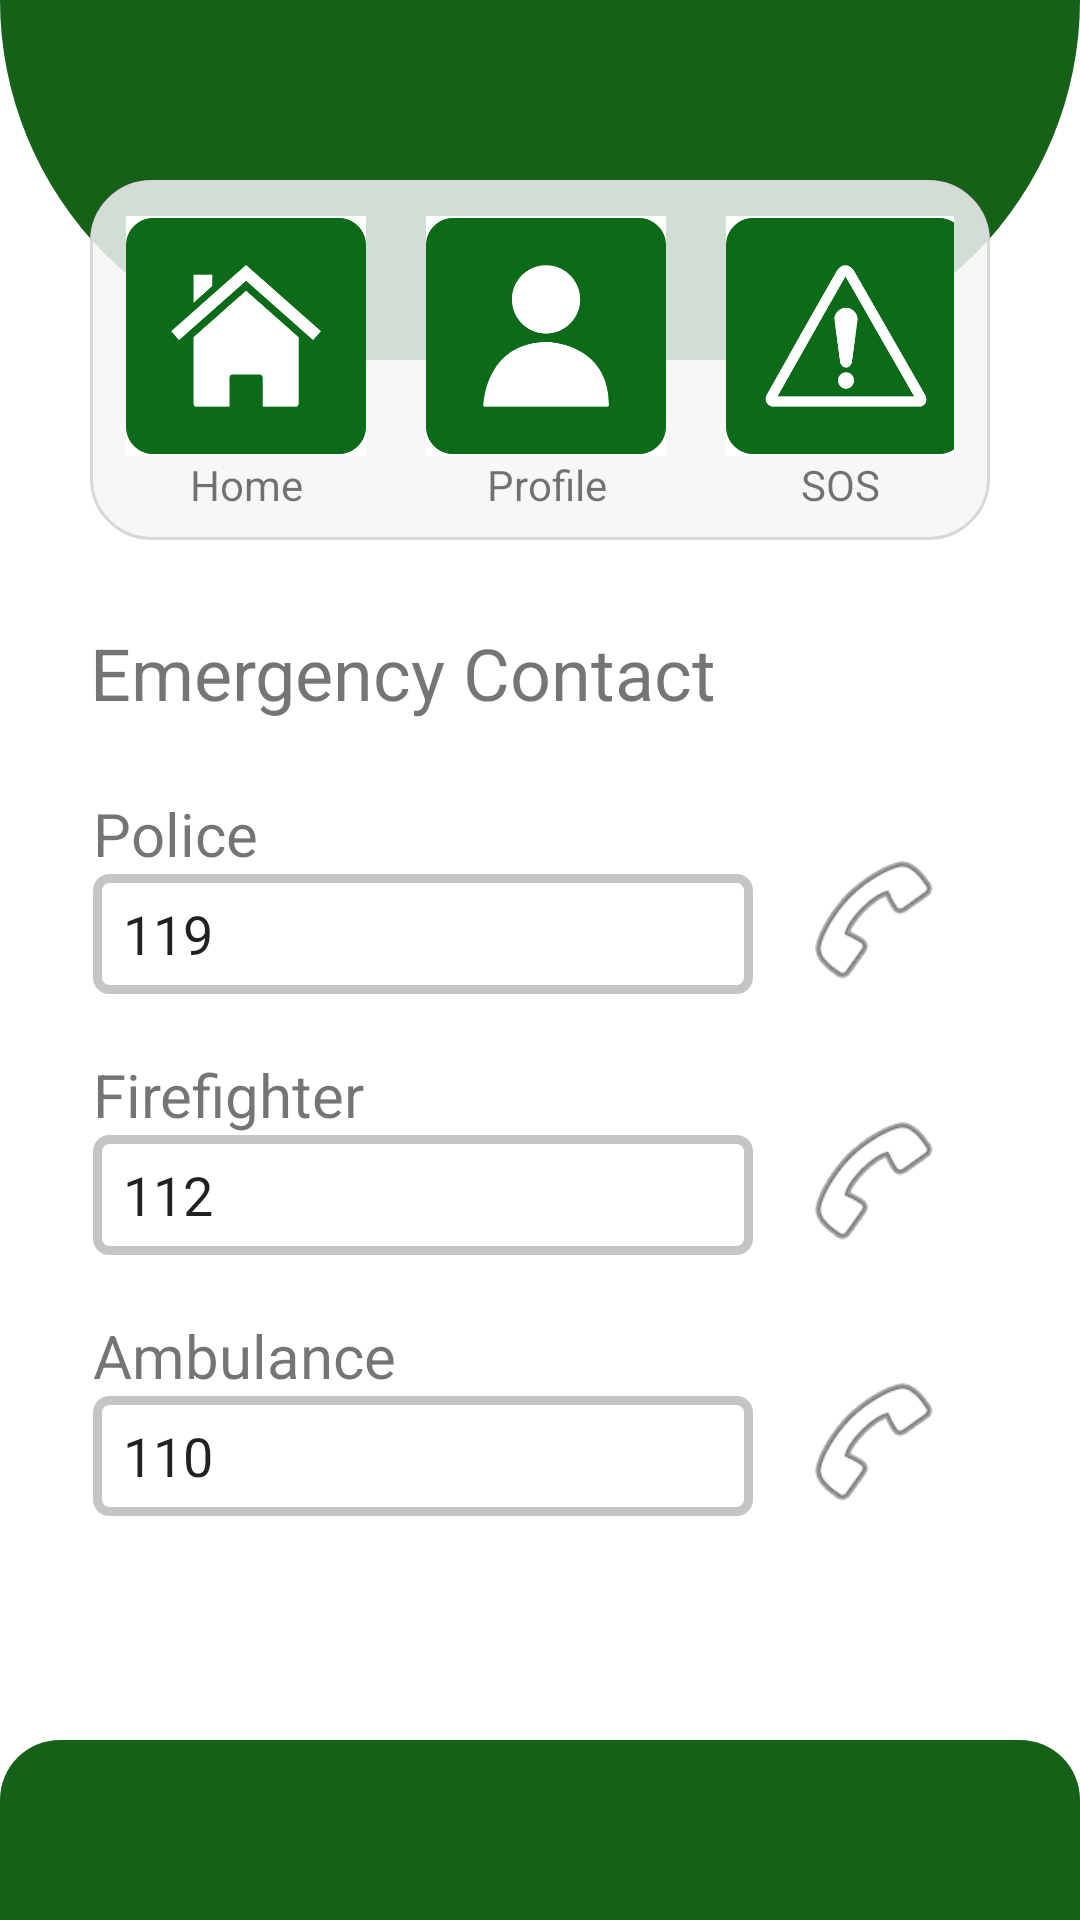

Where to tap for icons on this 1080 × 1920 app screen, as (x=x, y=y):
call: (x=874, y=920), (x=874, y=1181), (x=874, y=1442)
